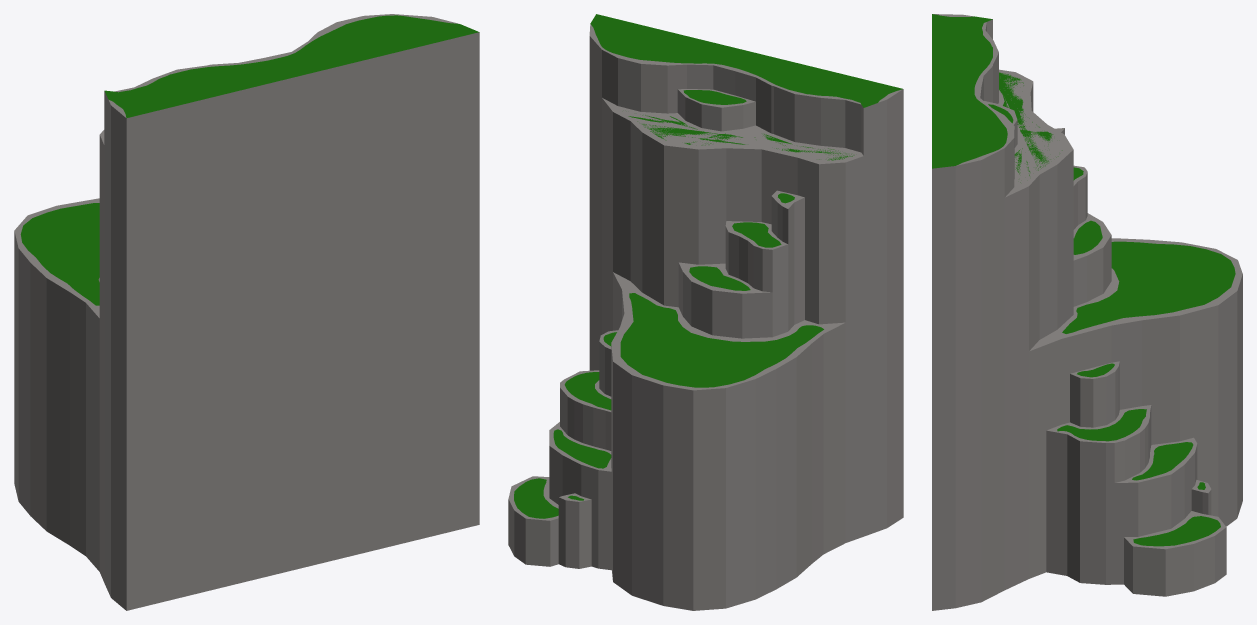
The model's file is MountainStairEnd.fbx.
The picture shows the model from 3 angles, left to right: view 1: azimuth 30°, elevation 25°; view 2: azimuth 150°, elevation 25°; view 3: azimuth 270°, elevation 25°; orthographic projection. The views are drawn at different scales.
Visible parts, largest first — view 1: Plane.015; view 2: Plane.015; view 3: Plane.015.
Boxes of the visible parts, x1,y1,x2,y2 form: Plane.015: (14,14,479,610); Plane.015: (508,14,903,610); Plane.015: (932,14,1242,610).
Size of the model in its own units: 75 by 100 by 63.66.
